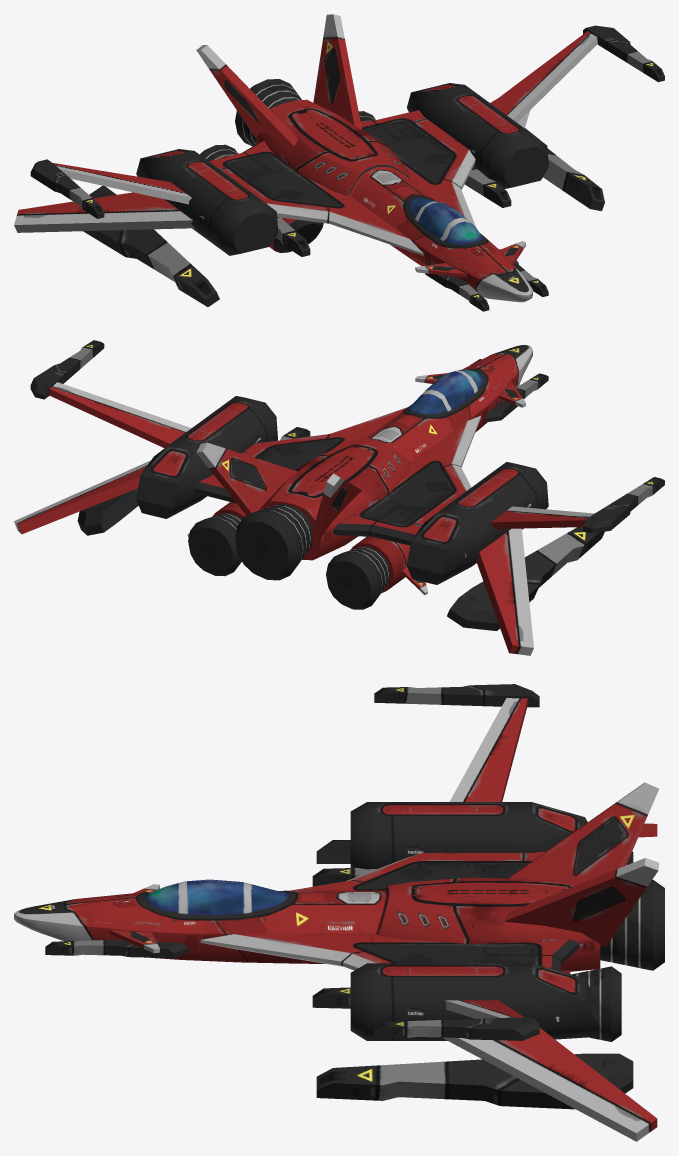
The model's file is StarSparrow01.obj.
3 views of the same model, one above another, from view 1: azimuth 30°, elevation 25°; view 2: azimuth 150°, elevation 25°; view 3: azimuth 270°, elevation 25° (orthographic). The views are drawn at different scales.
Parts seen in each view (by area): view 1: StarSparrow01_Mesh.117; view 2: StarSparrow01_Mesh.117; view 3: StarSparrow01_Mesh.117.
Part boxes in pixels (x1,y1,x2,y2): StarSparrow01_Mesh.117: (14,14,664,311); StarSparrow01_Mesh.117: (14,340,664,655); StarSparrow01_Mesh.117: (14,684,664,1141).
Bounding box in the file's own units: 13.64 × 3.26 × 10.85.
Materials: 1 (1 with a texture image).
